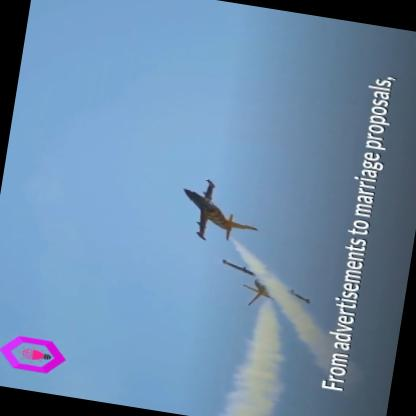plane: (171, 172, 267, 249)
